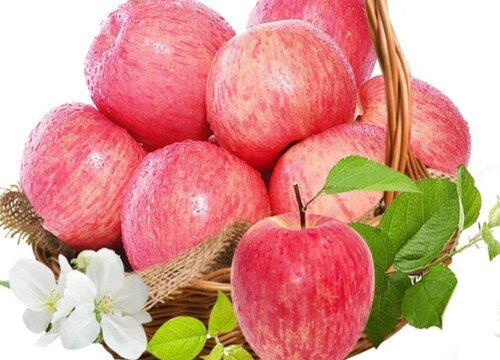apple: (232, 212, 384, 360), (207, 19, 357, 167), (86, 1, 235, 147), (116, 142, 272, 273), (19, 102, 145, 254), (267, 124, 404, 220), (356, 74, 472, 183), (246, 1, 377, 88)
